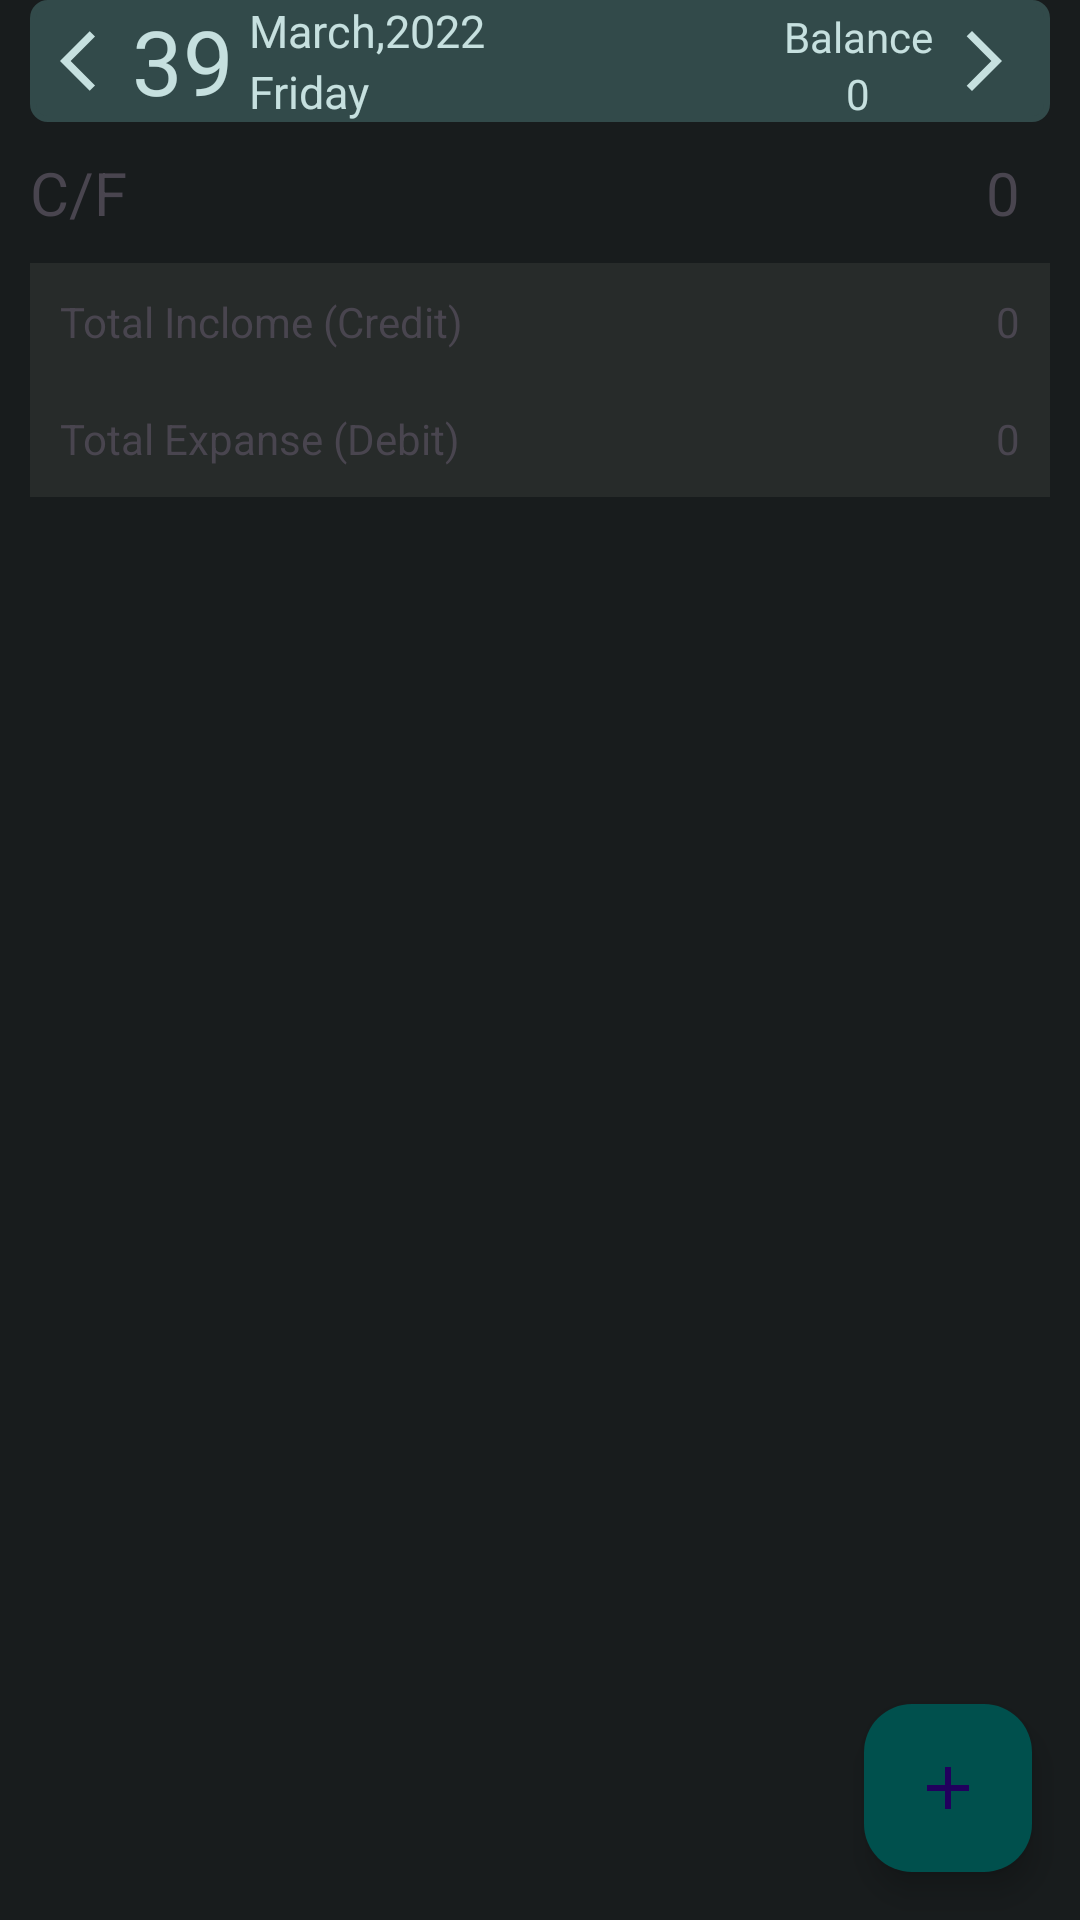

Where icons sit on this 1080*1920 app screen, as (x1, y1, x2, y2):
add: (864, 1704, 1032, 1872)
back: (60, 31, 95, 91)
forward: (967, 31, 1002, 91)
